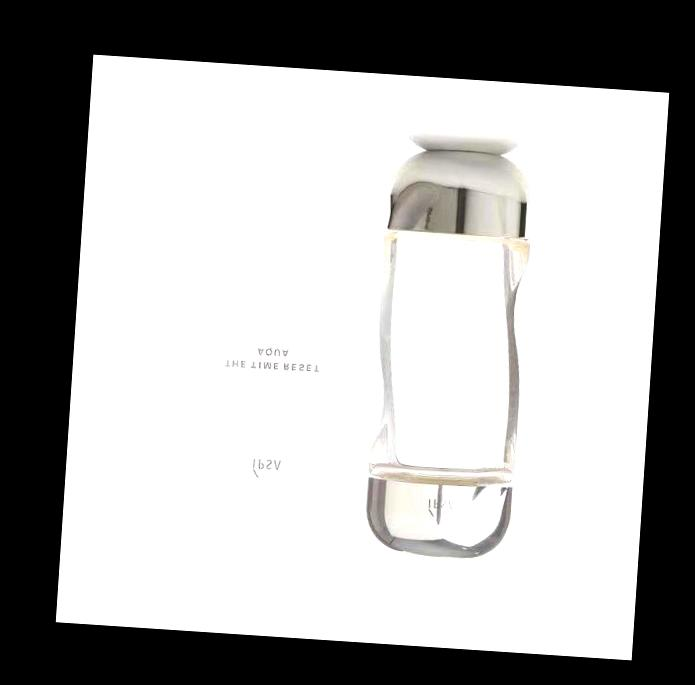cosmetic: (364, 143, 542, 561)
